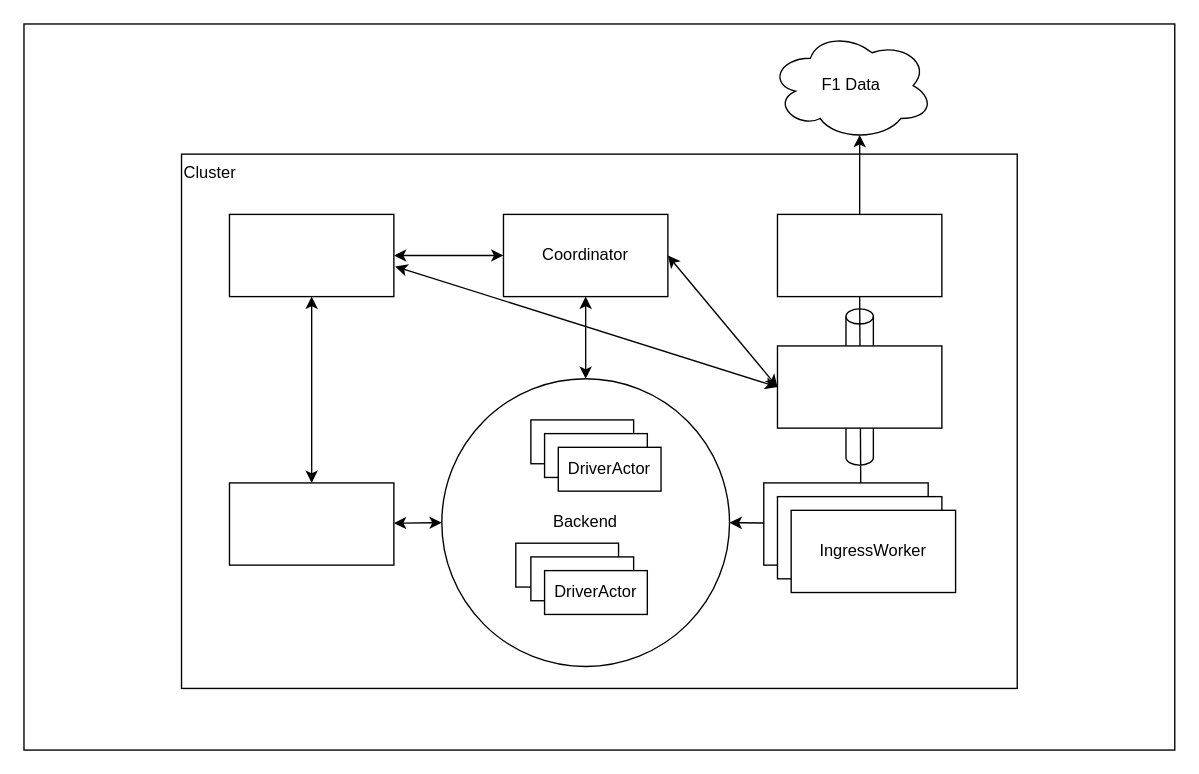
Some shapes in this 1199 by 774 pixel diagram are drawn without their labels. Here are the shapes that lost their labels. From the top down, the centre of each, then its label:
At point 311,255: "Client".
At point 859,255: "Pipeline".
At point 859,386: "Ingress".
At point 311,523: "TelemetryHandler".
